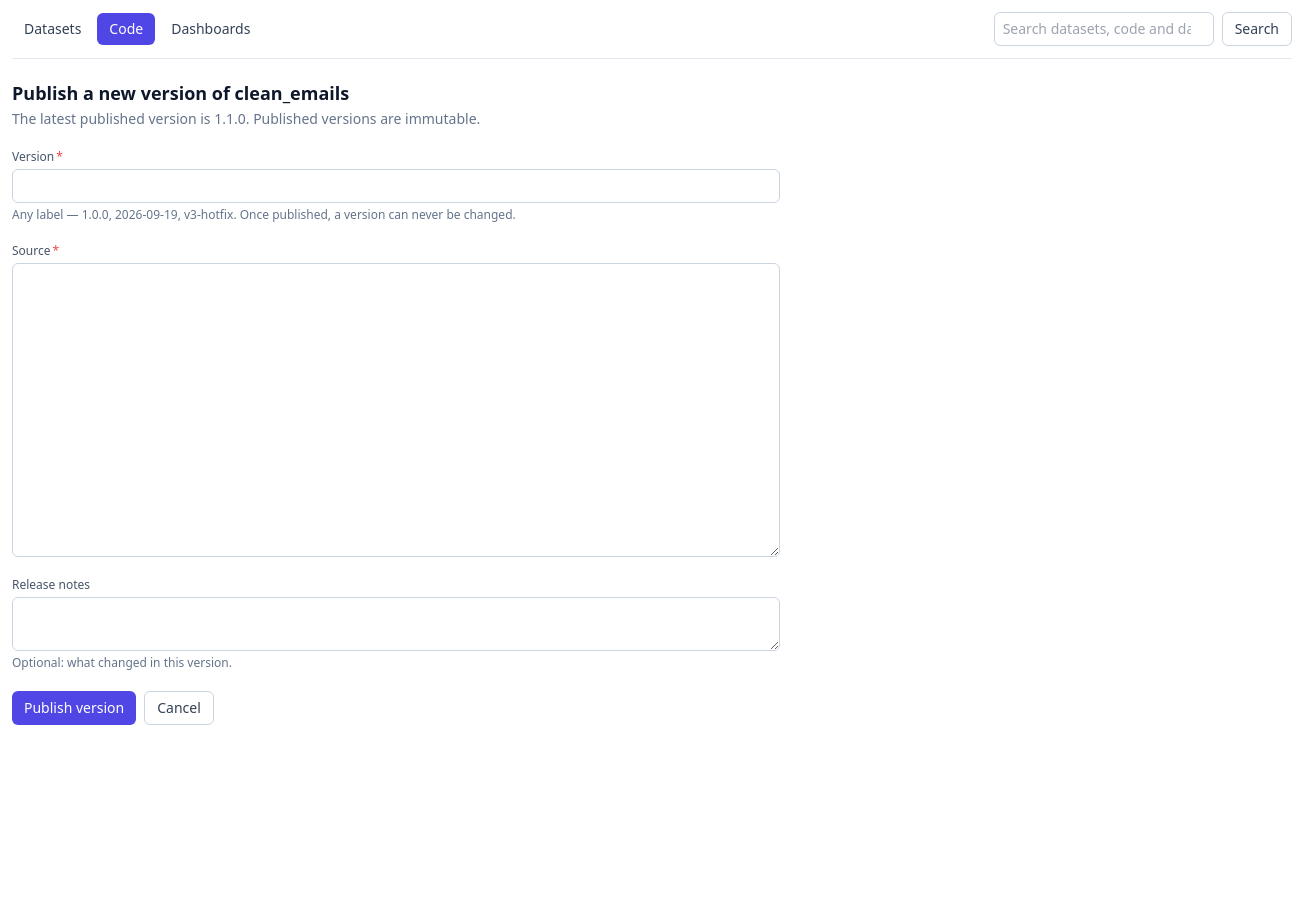
code › publishes a new version and lands on it
In the field labelled "Version*": (396, 186) top-left (12, 169), bottom-right (780, 203), type "2.0.0"
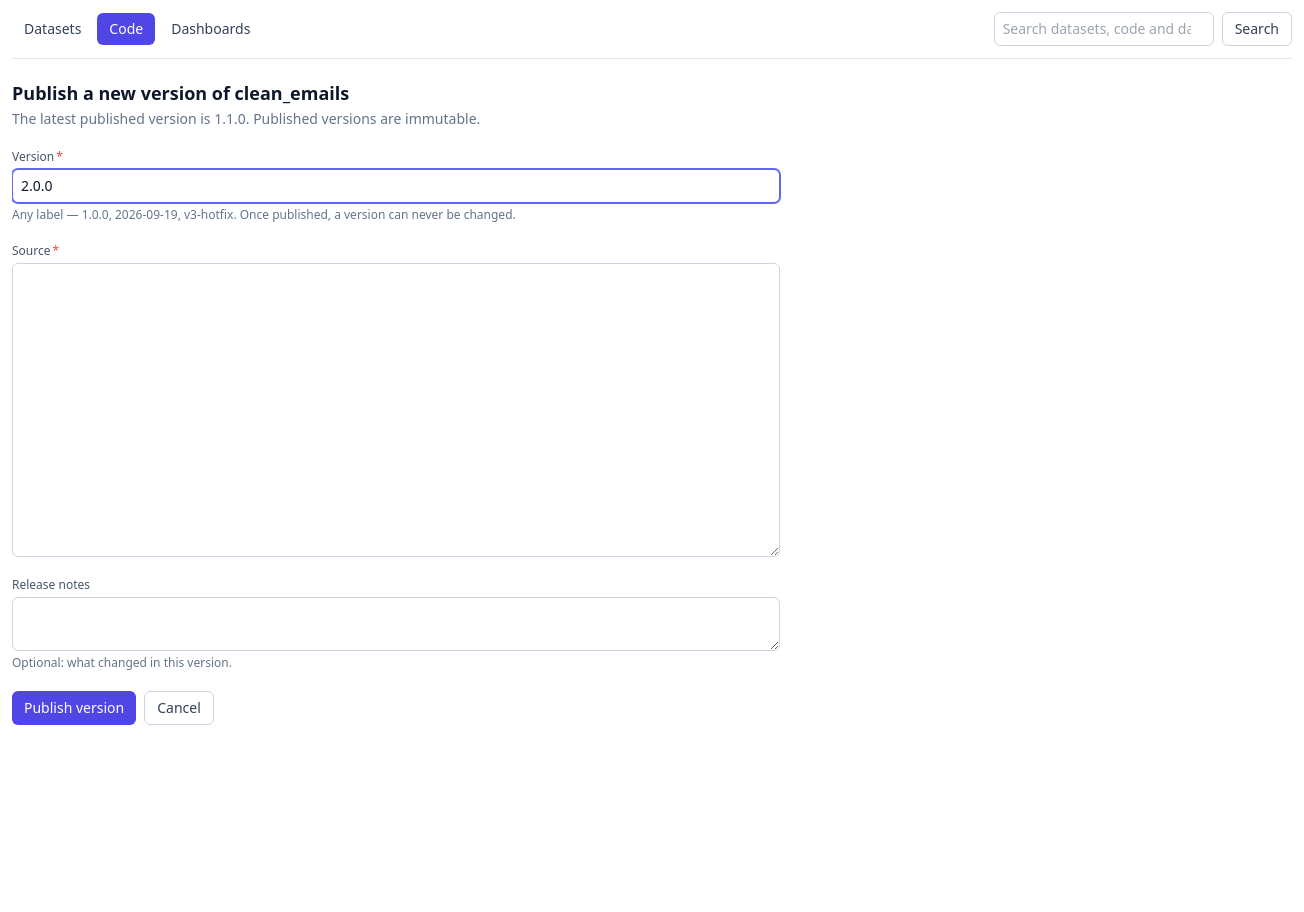
In the text box labelled "Source*": (396, 410) top-left (12, 263), bottom-right (780, 557), type "def f(): return 3"
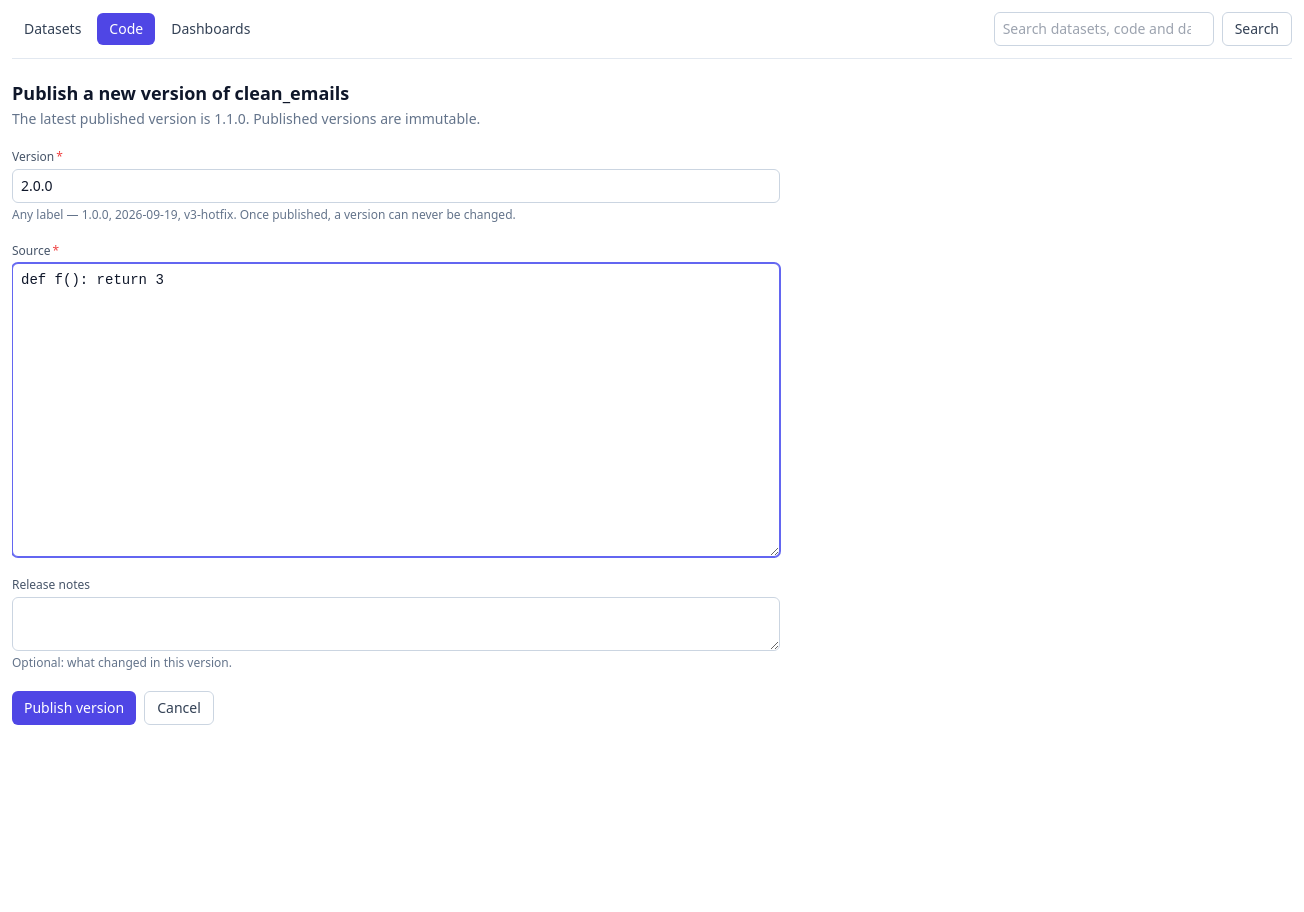
Click the button "Publish version": (74, 708) top-left (12, 691), bottom-right (136, 725)
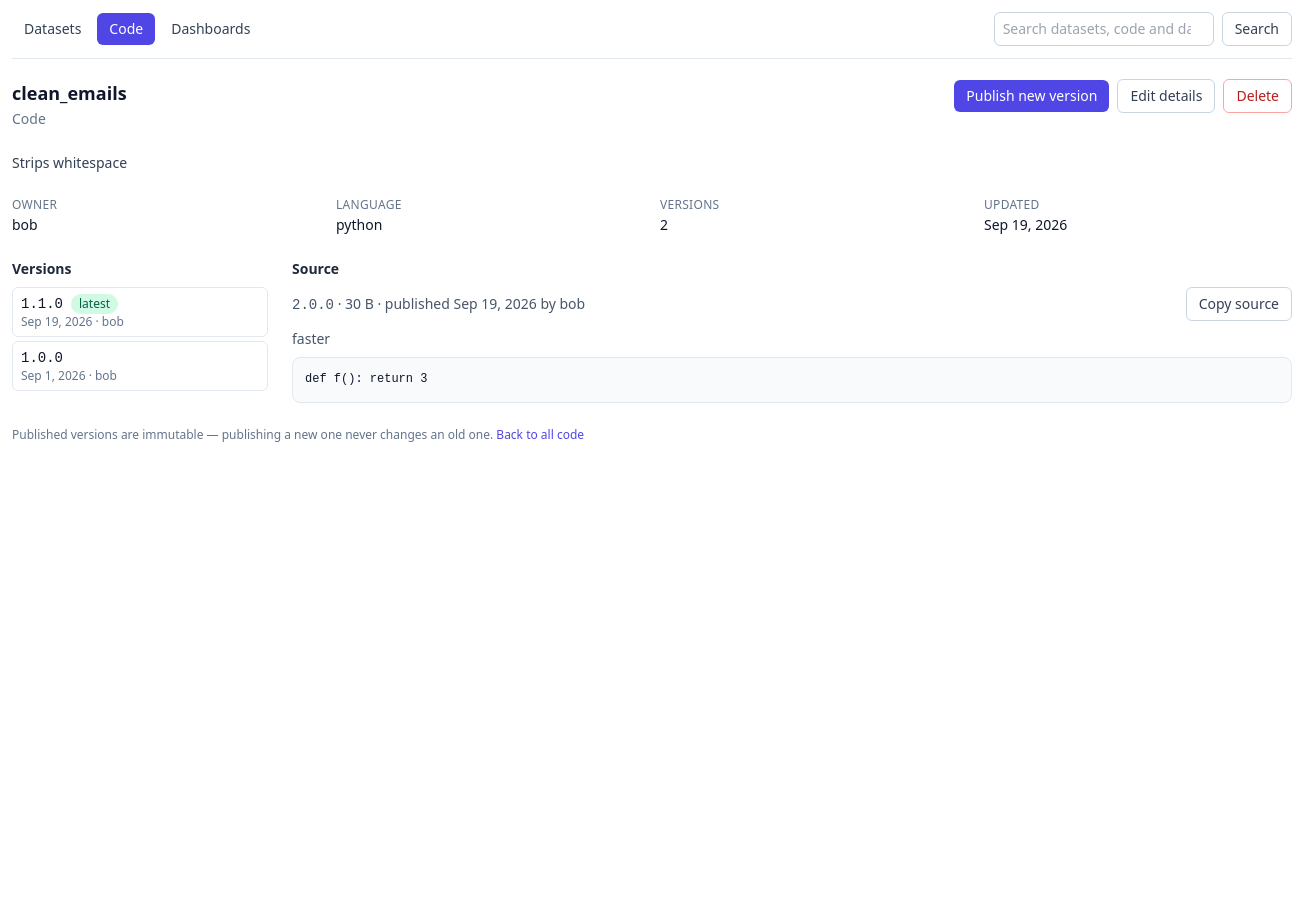
Check: the text named "Source of version 2.0.0" shows "return 3", box top-left (305, 372), bottom-right (427, 386)
